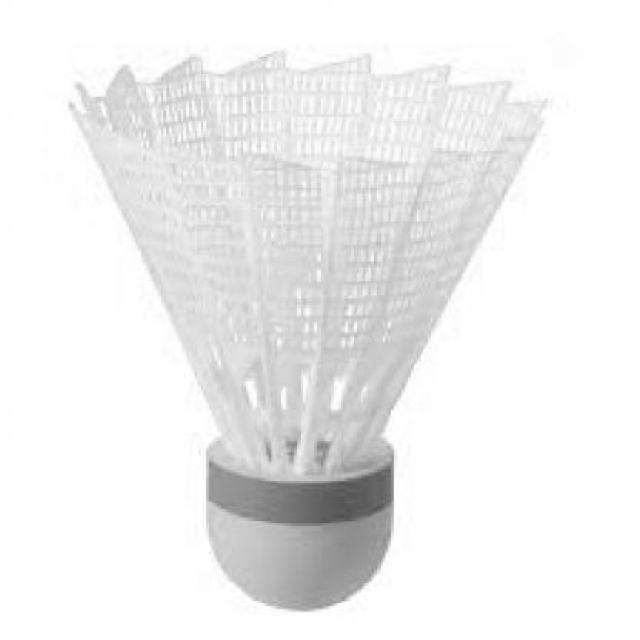Shuttlecock: (68, 43, 550, 614)
